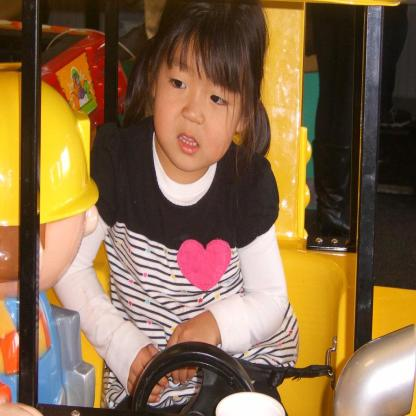Helmet: (0, 68, 99, 228)
